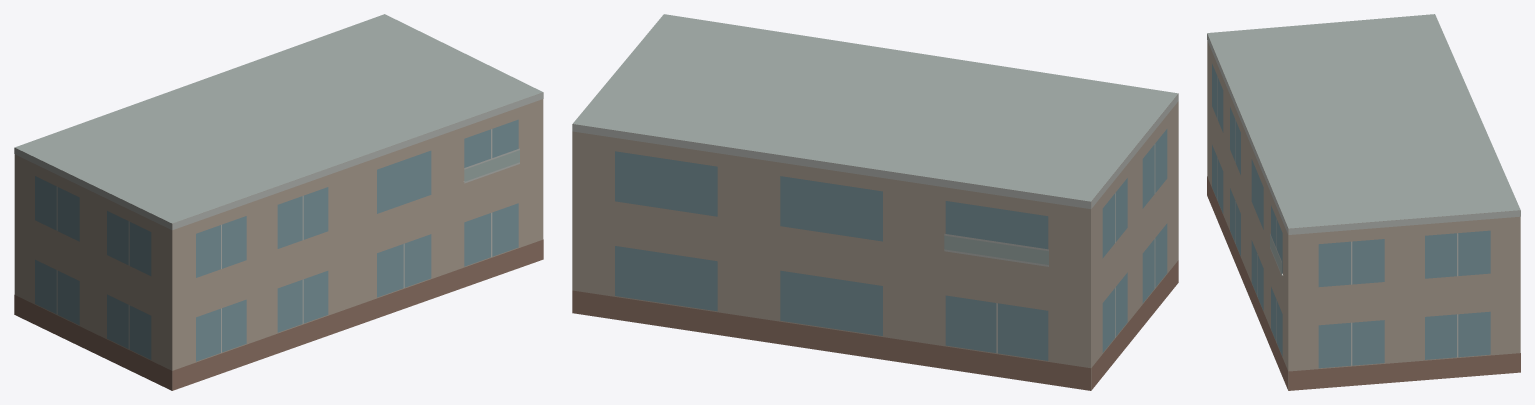
The model's file is survey-upis-32880681.glb.
3 views of the same model, side by side, from view 1: azimuth 30°, elevation 25°; view 2: azimuth 150°, elevation 25°; view 3: azimuth 270°, elevation 25° (orthographic). The views are drawn at different scales.
Parts seen in each view (by area): view 1: survey-upis-32880681.tmp; view 2: survey-upis-32880681.tmp; view 3: survey-upis-32880681.tmp.
Boxes of the visible parts, left/top/right/bottom form: survey-upis-32880681.tmp: left=14, top=14, right=543, bottom=390; survey-upis-32880681.tmp: left=572, top=14, right=1178, bottom=390; survey-upis-32880681.tmp: left=1207, top=14, right=1520, bottom=390.
Size of the model in its own units: 17.31 by 6.1 by 10.7.
